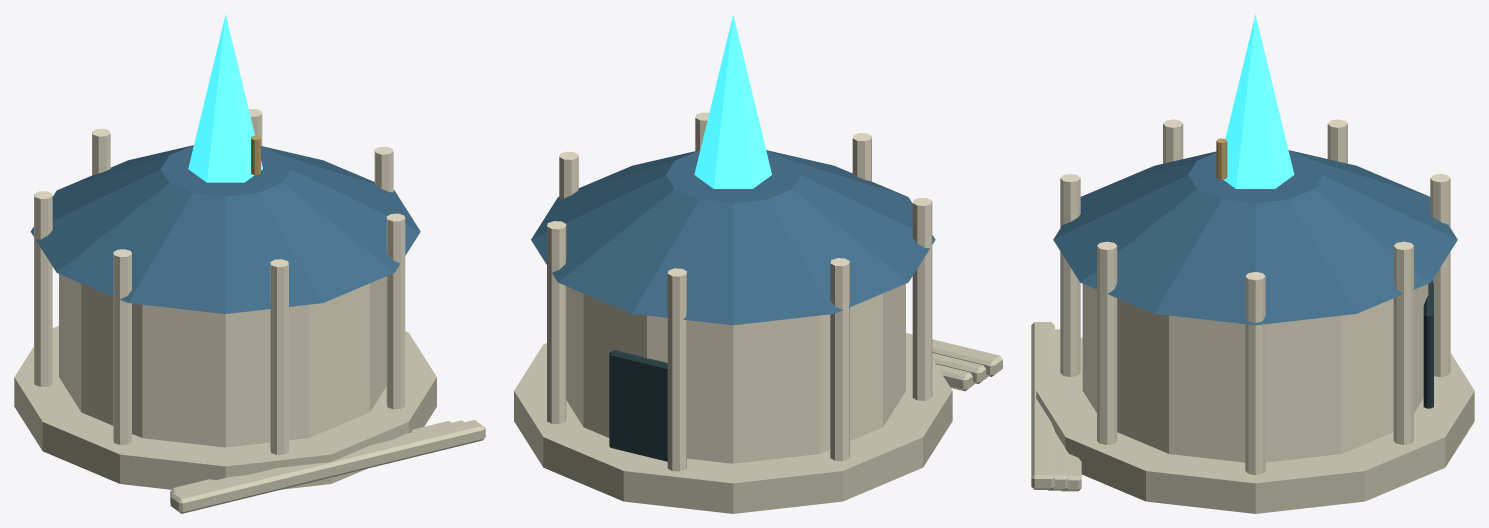
Rendered from level_20.glb.
3 views of the same model, side by side, from view 1: azimuth 30°, elevation 25°; view 2: azimuth 150°, elevation 25°; view 3: azimuth 270°, elevation 25° (orthographic). The views are drawn at different scales.
Parts seen in each view (by area): view 1: mage_guild — level 20; view 2: mage_guild — level 20; view 3: mage_guild — level 20.
Boxes of the visible parts, left/top/right/bottom form: mage_guild — level 20: left=14, top=14, right=485, bottom=513; mage_guild — level 20: left=514, top=15, right=1002, bottom=513; mage_guild — level 20: left=1031, top=14, right=1474, bottom=513.
Size of the model in its own units: 5.2 by 5.33 by 5.26.
